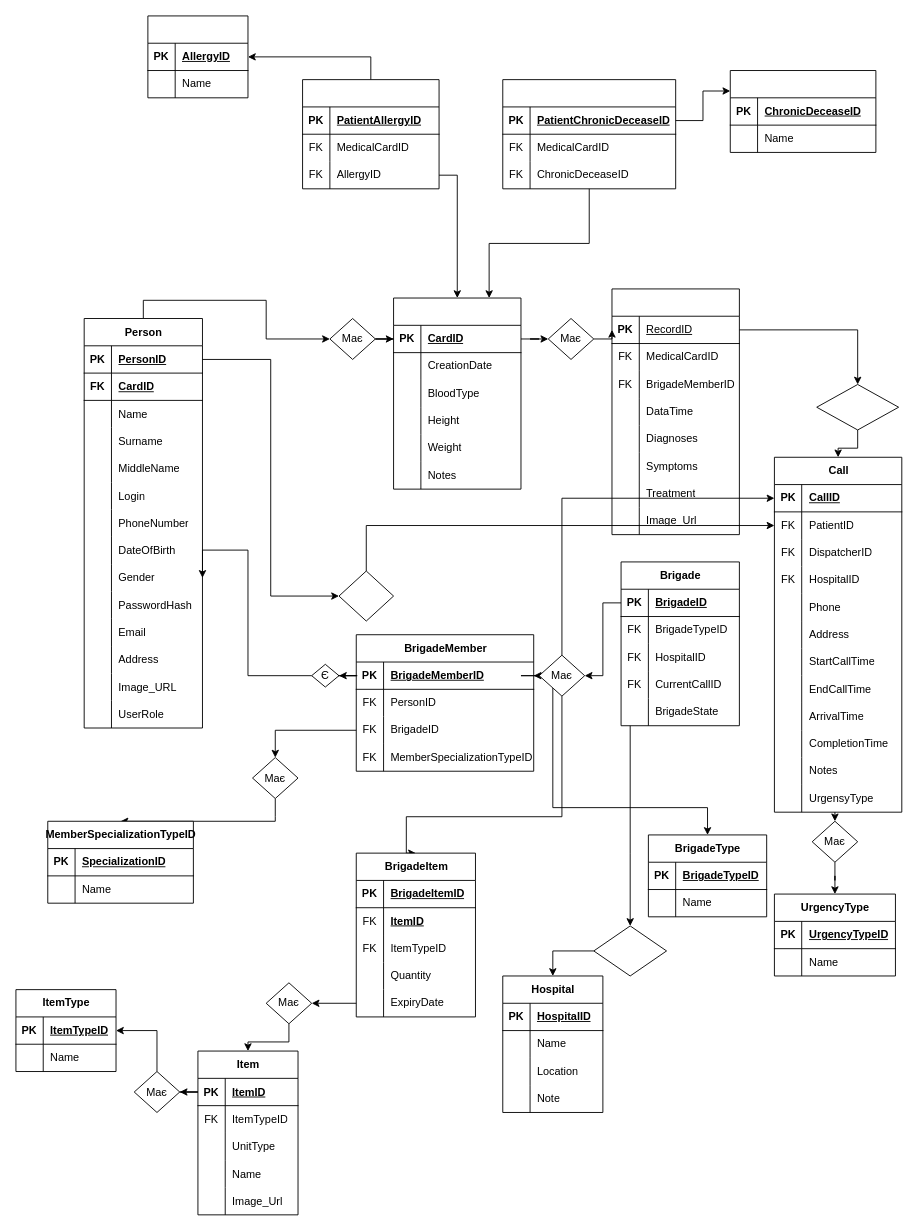
Image size: 918x1231. Some labels were removed from this diagram. The shapes that lost their labels are listed below. From the top down, each one's box as (x1, y1, x2, y2) in pixels, then its label:
(147, 15, 248, 98): Allergies
(729, 70, 876, 152): ChronicDeceases
(302, 79, 439, 189): PatientAllergies
(502, 79, 676, 189): PatientChronicDeceases
(393, 297, 521, 489): MedicalCard
(611, 288, 739, 535): MedicalRecord
(816, 384, 899, 430): Заповняється на основі
(338, 570, 394, 621): Здійснює
(593, 925, 667, 976): Перевозить в
